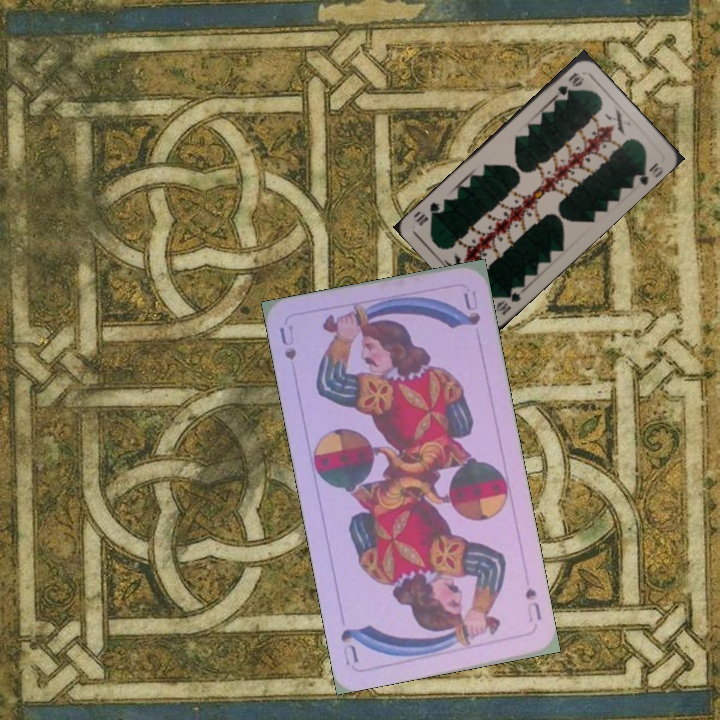G10: (551, 68, 586, 103), (492, 282, 524, 318)
SU: (275, 321, 299, 363), (521, 584, 544, 625)
